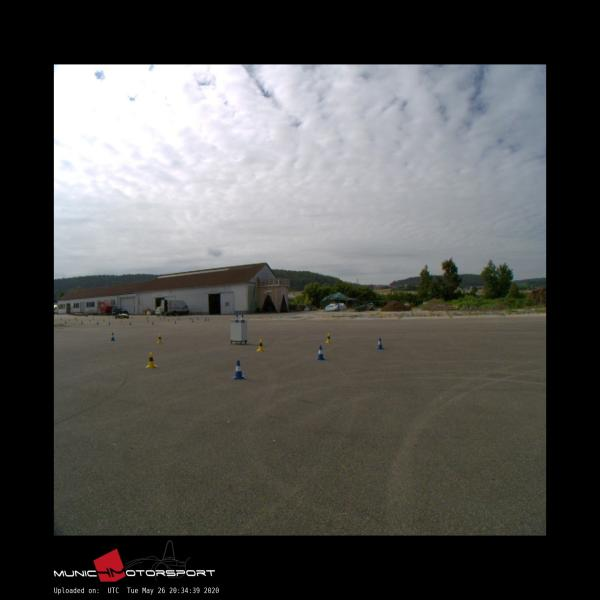blue_cone: (232, 360, 245, 378), (316, 345, 324, 359), (376, 338, 383, 349), (240, 314, 245, 323), (235, 314, 239, 323), (111, 332, 115, 340)
yellow_cone: (145, 352, 157, 367), (256, 338, 264, 351), (325, 333, 332, 342), (157, 334, 163, 343)
